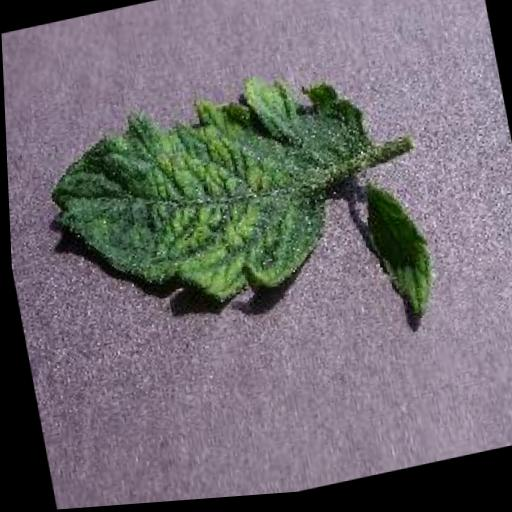Mosaic Virus: (35, 58, 393, 335), (355, 189, 440, 339)
